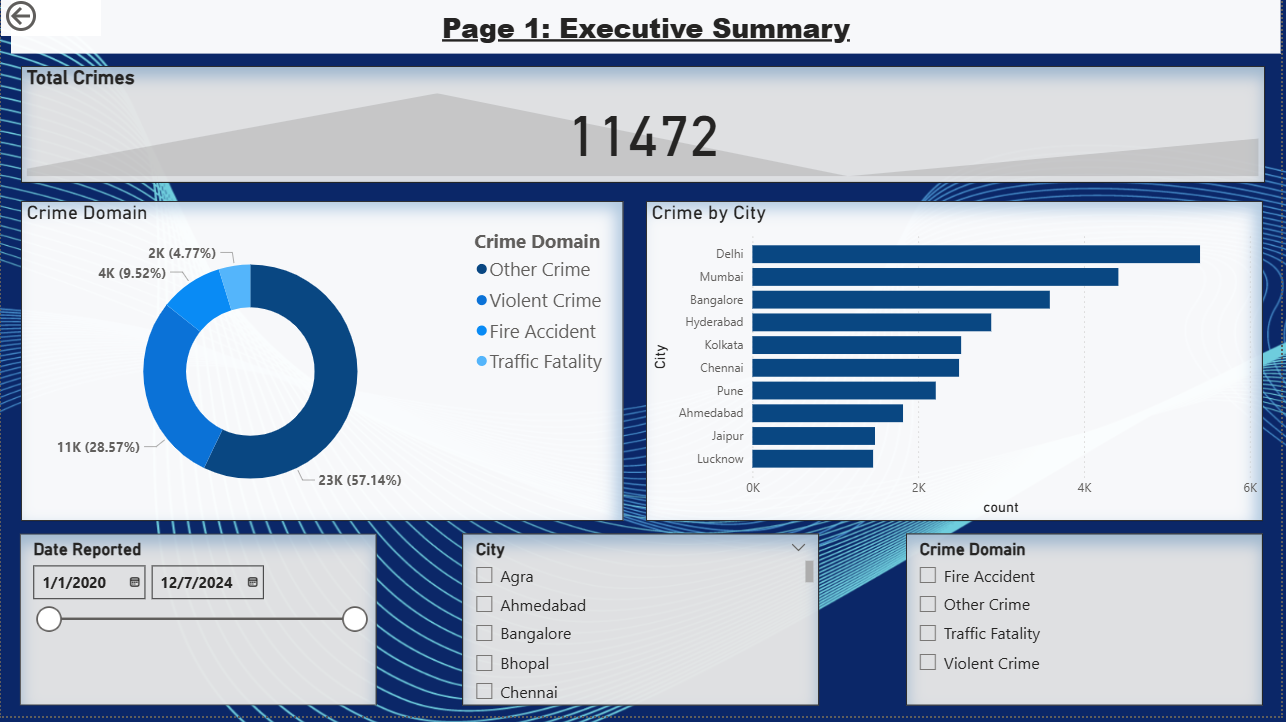

This screenshot's page, from the dashboard's own definition file:
{"tool":"powerbi","page":{"name":"Page 1","canvas":[1280,720],"ordinal":0},"visuals":[{"type":"textbox","box":[9.8,0,1269.9,57.7],"z":0},{"type":"kpi","title":"Total Crimes","fields":{"Indicator":["cleaned_indian_crimes.count"],"TrendLine":["cleaned_indian_crimes.Crime Domain"]},"box":[19.6,69.9,1244.2,116.6],"z":1000},{"type":"donutChart","title":"Crime Domain","fields":{"Category":["cleaned_indian_crimes.Crime Domain"],"Y":["cleaned_indian_crimes.count"]},"box":[19.6,204.9,602.5,320.2],"z":2000},{"type":"barChart","title":"Crime by City ","fields":{"Y":["cleaned_indian_crimes.count"],"Category":["cleaned_indian_crimes.City"]},"box":[645.4,204.9,617.2,320.2],"z":3000},{"type":"actionButton","box":[0,0,100,40],"z":4000},{"type":"slicer","title":"Total Crimes","fields":{"Values":["cleaned_indian_crimes.Date Reported"]},"box":[18.4,537.4,357.1,171.8],"z":5000},{"type":"slicer","title":"Total Crimes","fields":{"Values":["cleaned_indian_crimes.City"]},"box":[461.4,537.4,357.1,171.8],"z":6000},{"type":"slicer","title":"Total Crimes","fields":{"Values":["cleaned_indian_crimes.Crime Domain"]},"box":[905.5,537.4,357.1,171.8],"z":7000}]}

Visuals, with their boxes in screenshot pixels (x1, y1, x2, y2), scaled from the page's 1280x720 canvas onto the 1286x722 screenshot:
textbox: <box>10,0,1285,58</box>
"Total Crimes" kpi: <box>20,70,1270,187</box>
"Crime Domain" donutChart: <box>20,205,625,527</box>
"Crime by City " barChart: <box>648,205,1269,527</box>
actionButton: <box>0,0,100,40</box>
"Total Crimes" slicer: <box>18,539,377,711</box>
"Total Crimes" slicer: <box>464,539,822,711</box>
"Total Crimes" slicer: <box>910,539,1269,711</box>
